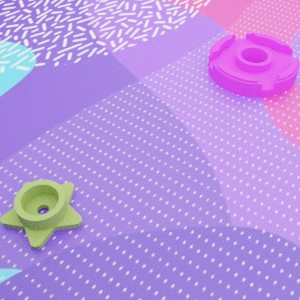lego: (207, 32, 299, 98), (0, 179, 81, 249)
